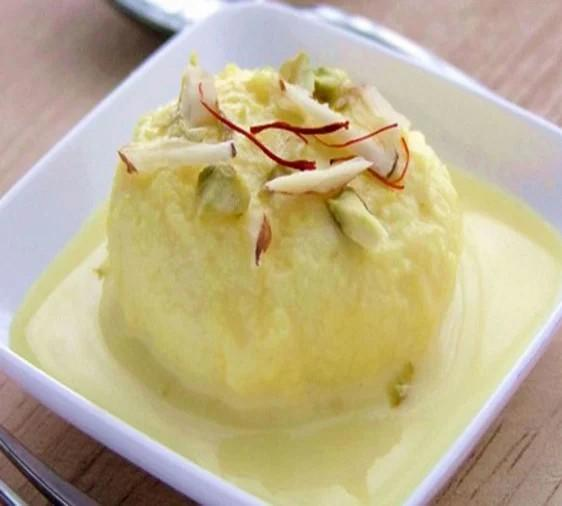RasMalai: (10, 48, 562, 506)
